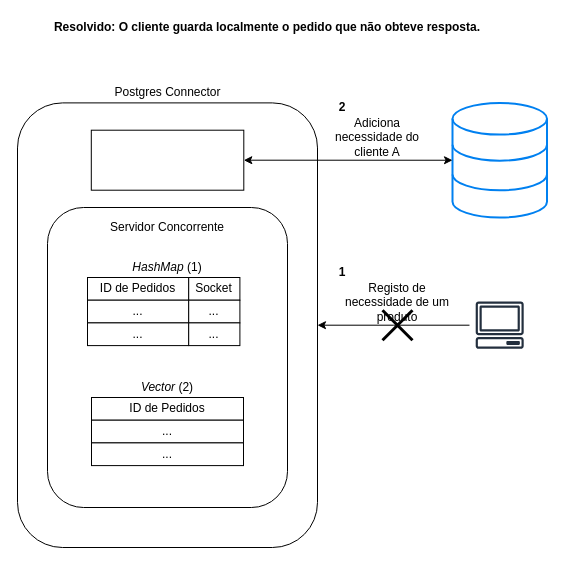
The diagram is 565 pixels wide and 565 high, and some of its shapes have lost their labels. The shapes that lost their labels are listed below. From the top down, each one's centre as x and y in pixels, then its label:
At point (167, 159): "Conecção à BD".
At point (499, 324): "Cliente A".
